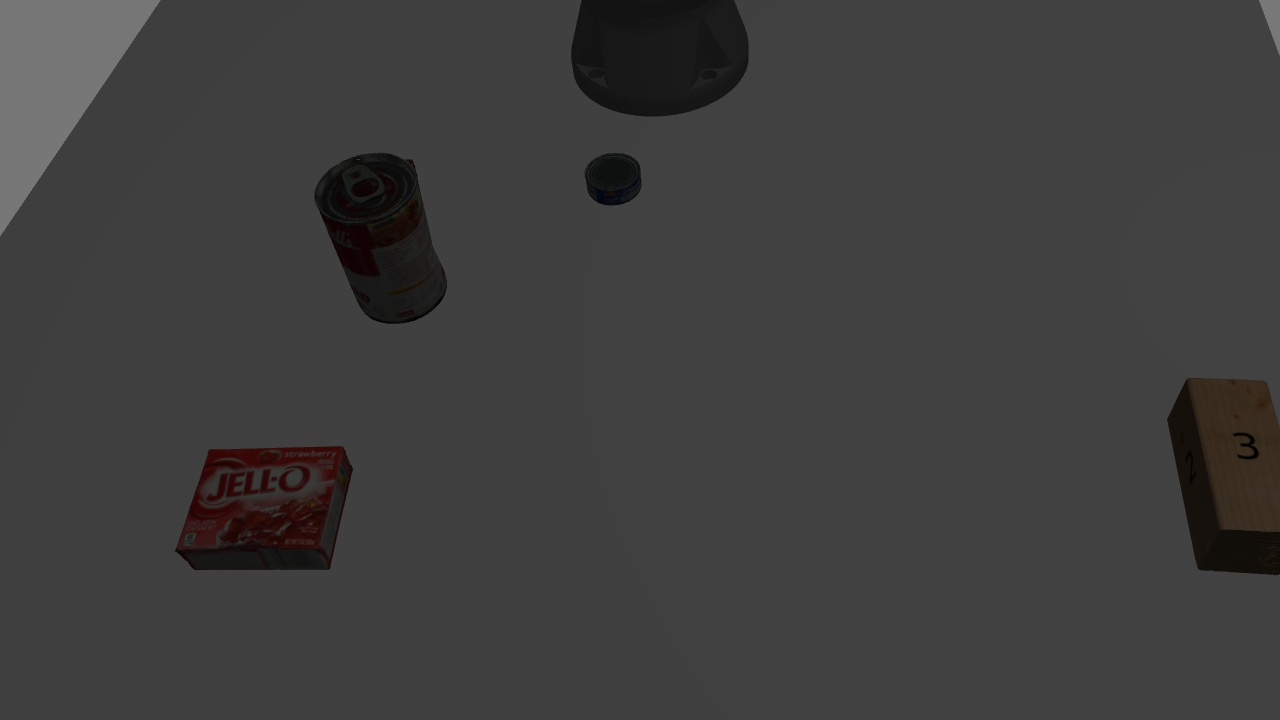gelatin_box: (173, 436, 355, 582)
tomato_soup_can: (306, 150, 452, 324)
tuna_fish_can: (576, 149, 652, 207)
wood_block: (1164, 375, 1278, 581)
